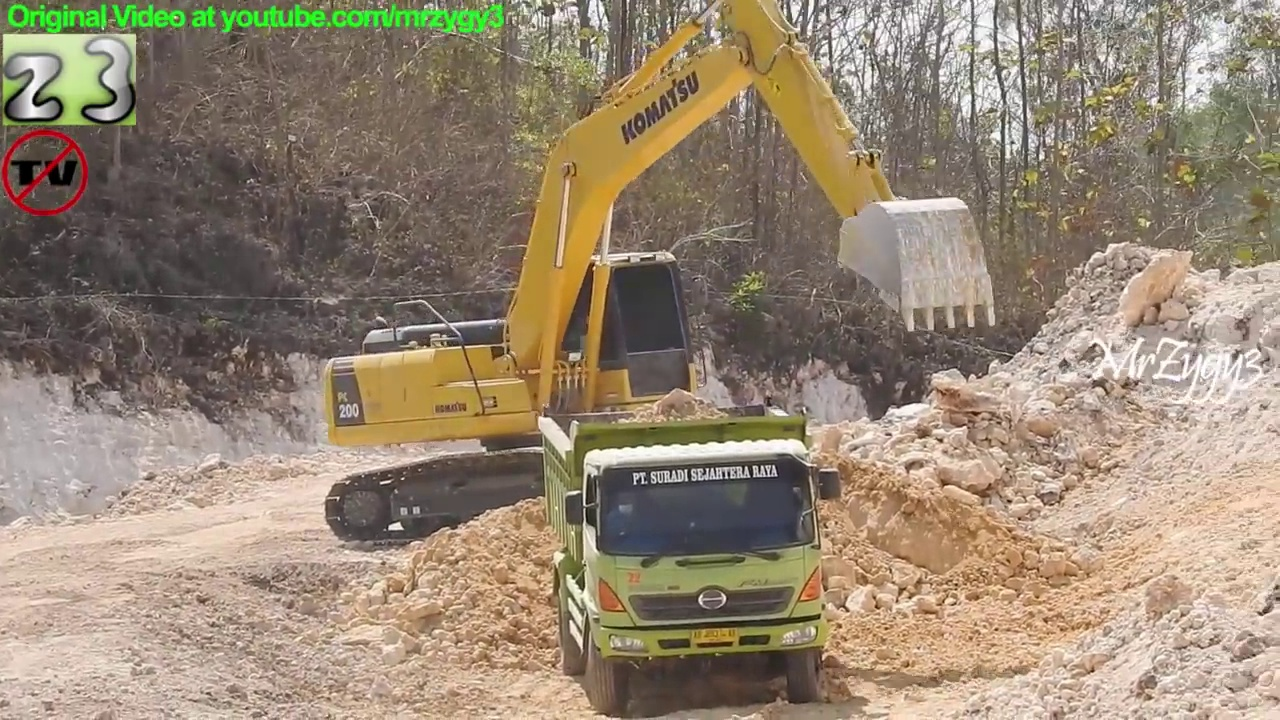excavator: (315, 1, 1007, 547)
truck: (534, 393, 843, 717)
